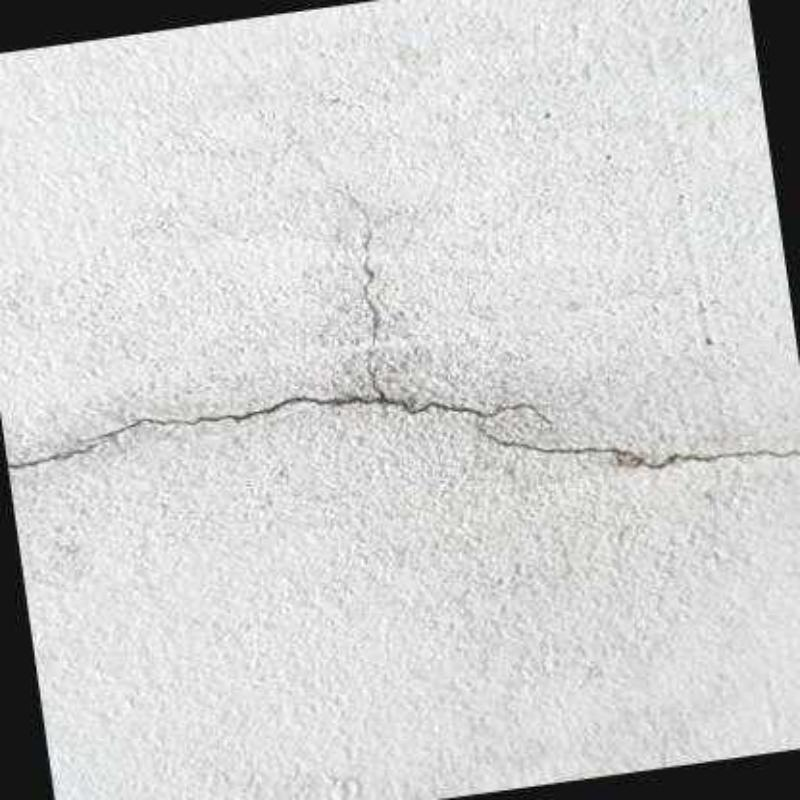pothole: (6, 396, 798, 470), (335, 181, 388, 398)
